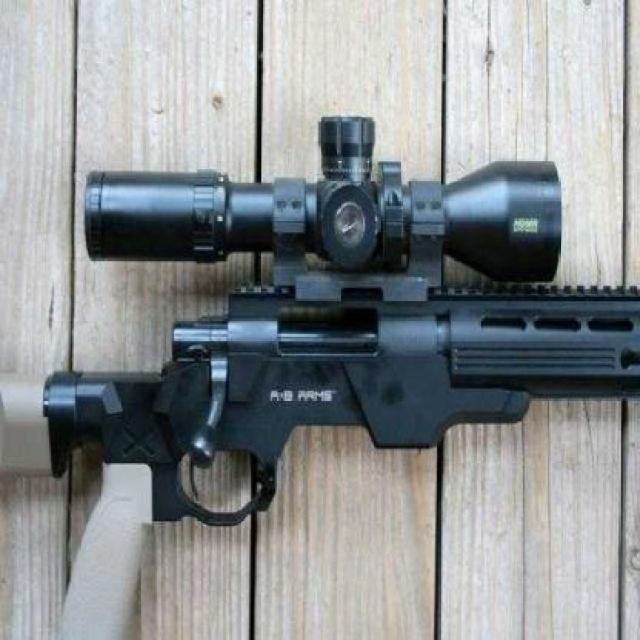weapon: (12, 126, 640, 530)
